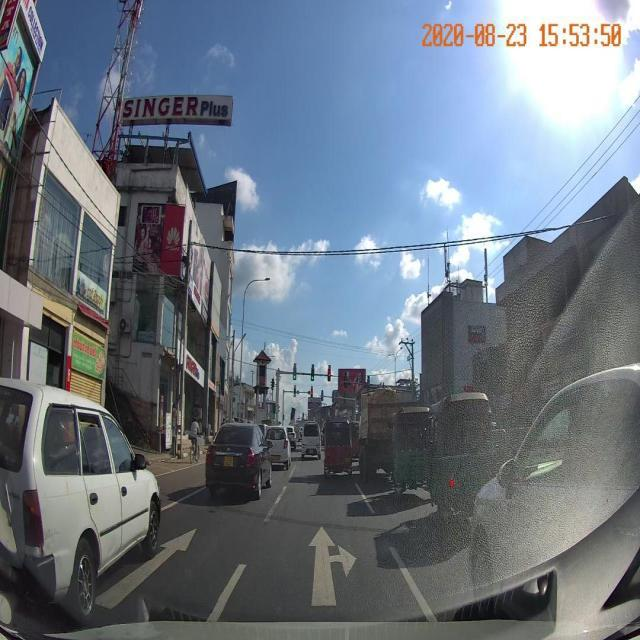Liniya 1: (387, 545, 441, 624), (199, 561, 251, 623), (259, 485, 289, 531), (162, 483, 206, 514), (353, 481, 382, 520), (157, 459, 205, 478)
Strelka vpered: (88, 525, 198, 611)
Strelka vpered - vpravo: (306, 523, 358, 607)
